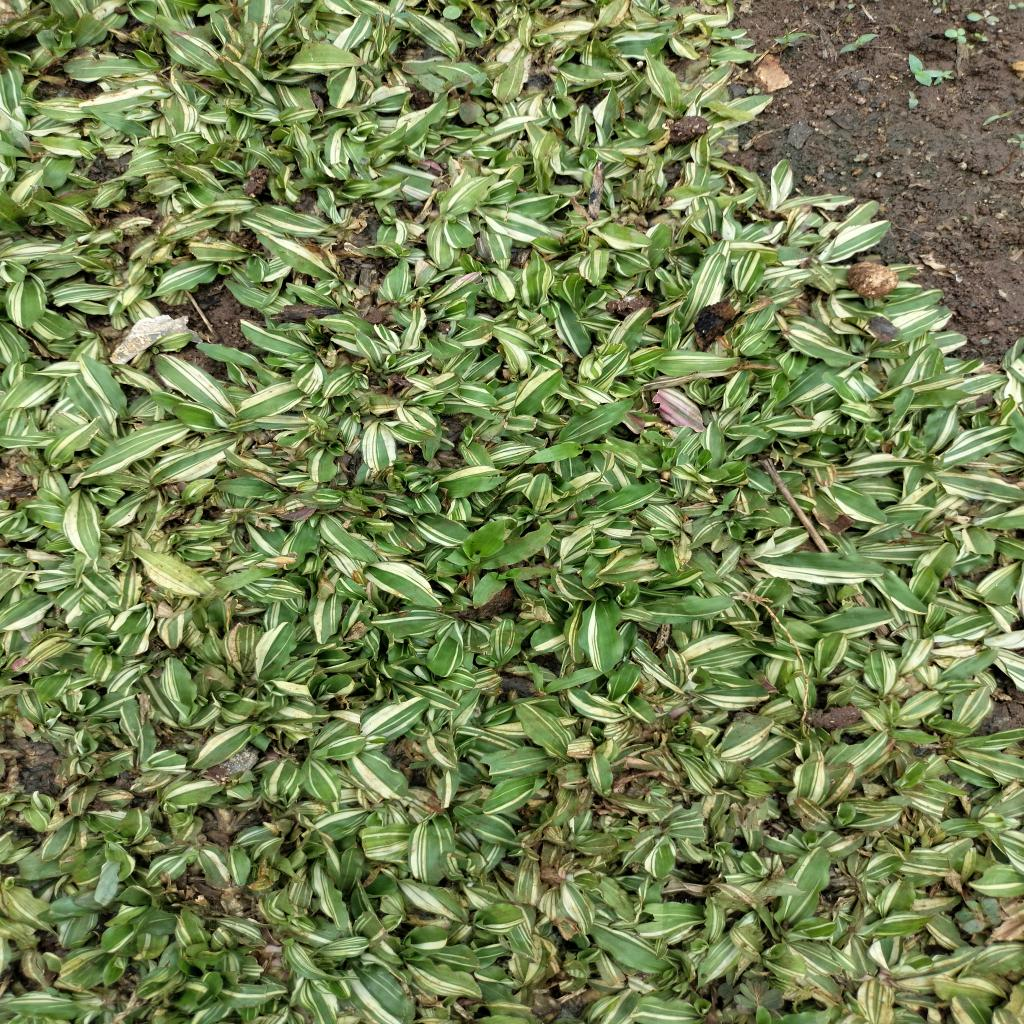bayi: (965, 8, 1003, 28), (944, 25, 967, 46), (969, 30, 993, 44), (852, 151, 872, 163), (1008, 1, 1024, 13), (744, 86, 762, 95)
buah daun: (714, 977, 789, 1020)
gingseng jawa: (198, 0, 256, 25)
rambat atas: (522, 656, 610, 701), (837, 31, 879, 56), (907, 49, 933, 88), (770, 27, 810, 47), (982, 109, 1017, 126)
rambat bawah: (433, 516, 557, 598), (523, 437, 645, 478), (468, 564, 558, 610)
tunggang tengah: (955, 894, 1007, 936)
ungu tunggang: (414, 70, 502, 138)
